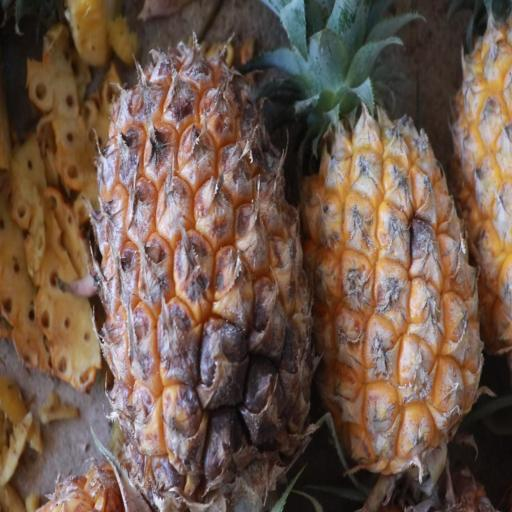Pineapple - v8 v1: (89, 22, 316, 509), (293, 19, 484, 497)
